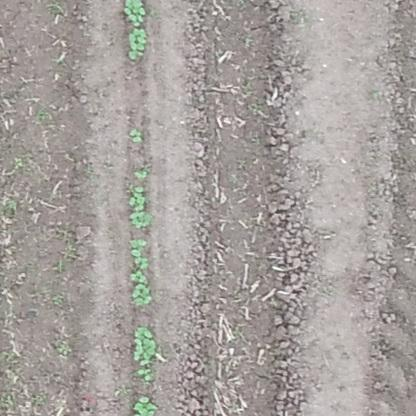vc: (132, 323, 157, 366), (129, 236, 151, 268), (129, 394, 159, 416), (122, 1, 148, 26), (127, 27, 147, 59), (125, 286, 156, 306), (130, 186, 147, 210), (127, 213, 154, 228), (127, 271, 150, 283), (129, 127, 144, 143), (136, 369, 154, 382), (133, 166, 148, 179)
